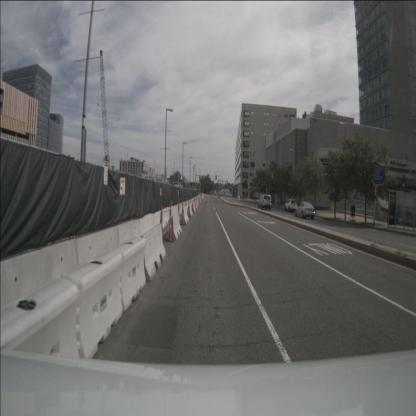barrier: (0, 276, 87, 416), (0, 236, 84, 351), (54, 249, 124, 368), (74, 225, 122, 298), (106, 234, 146, 314), (132, 223, 166, 286), (117, 216, 141, 262), (166, 211, 182, 244), (140, 212, 154, 245), (180, 206, 188, 225), (187, 203, 193, 218), (191, 202, 196, 214), (193, 200, 198, 210)
cone: (166, 202, 175, 243), (156, 204, 165, 245), (180, 201, 186, 226), (176, 199, 181, 226), (187, 200, 191, 218), (184, 198, 188, 216), (192, 200, 194, 214), (190, 198, 192, 212)
